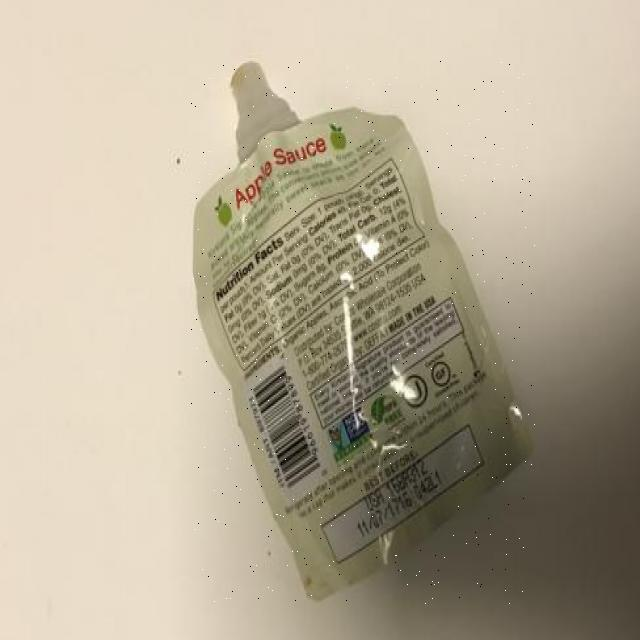plastic: (192, 60, 535, 605)
